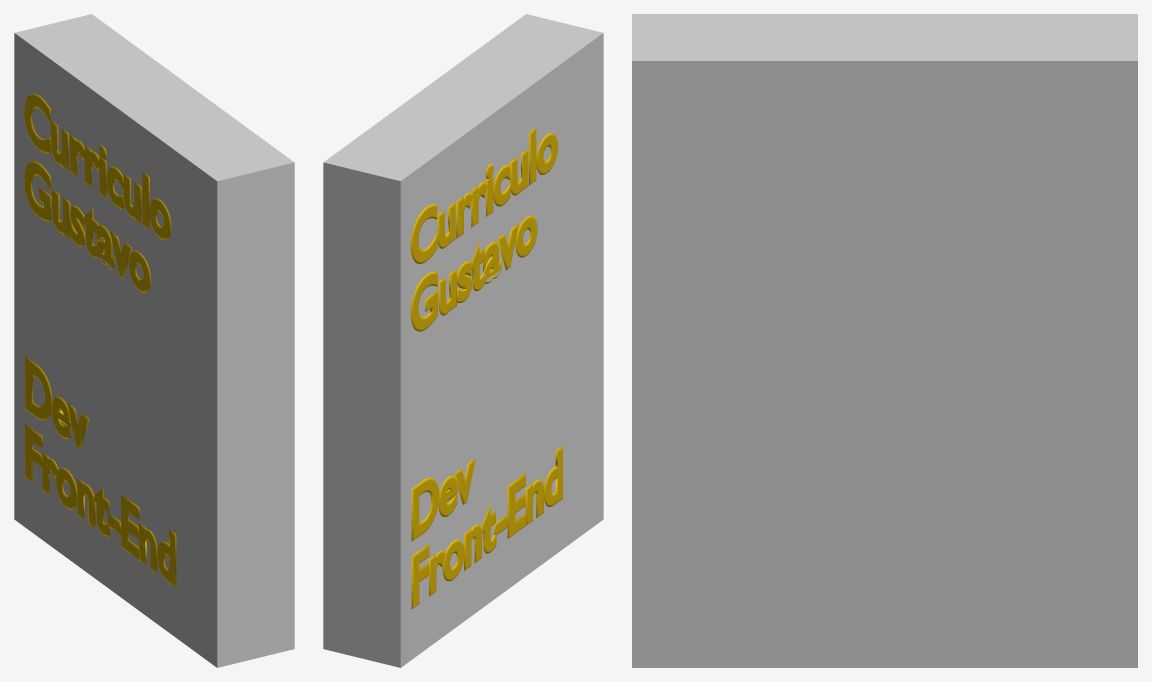
Rendered from curriculo.glb.
The picture shows the model from 3 angles, left to right: view 1: azimuth 30°, elevation 25°; view 2: azimuth 150°, elevation 25°; view 3: azimuth 270°, elevation 25°; orthographic projection. The views are drawn at different scales.
Parts seen in each view (by area): view 1: Cubo, Texto; view 2: Cubo, Texto; view 3: Cubo.
Part boxes in pixels (x1=…): Cubo: x1=14, y1=14, x2=294, y2=667; Texto: x1=24, y1=93, x2=176, y2=586; Cubo: x1=323, y1=14, x2=603, y2=667; Texto: x1=410, y1=127, x2=562, y2=608; Cubo: x1=632, y1=14, x2=1137, y2=667.
Size of the model in its own units: 1.21 by 7.2 by 5.44.
